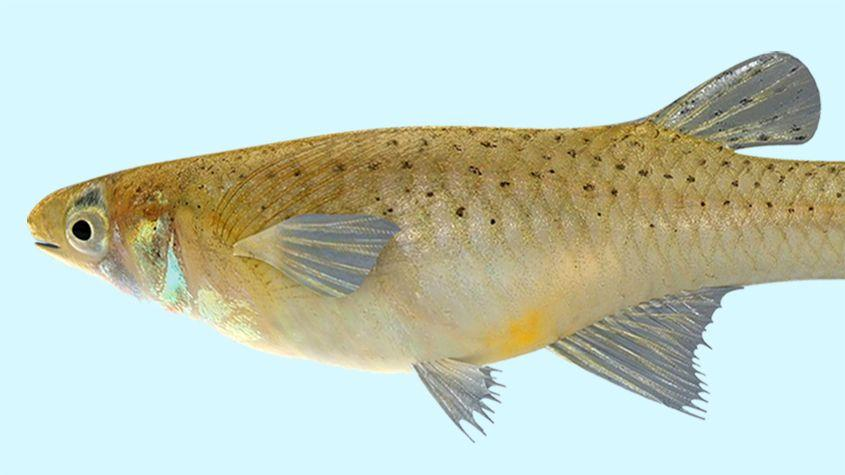Mosquito Fish: (29, 46, 845, 446)
